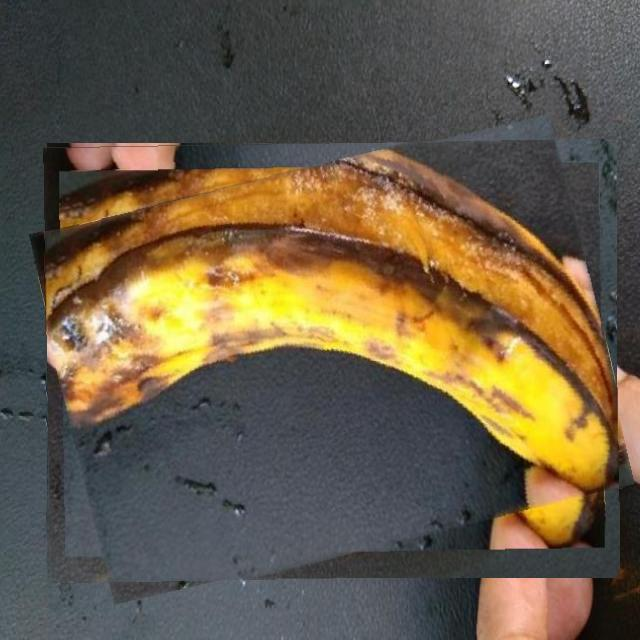Podre: (44, 140, 619, 581)
